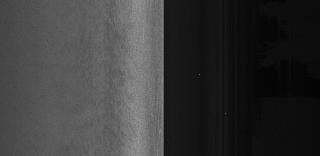silk spot: (90, 32, 148, 134)
